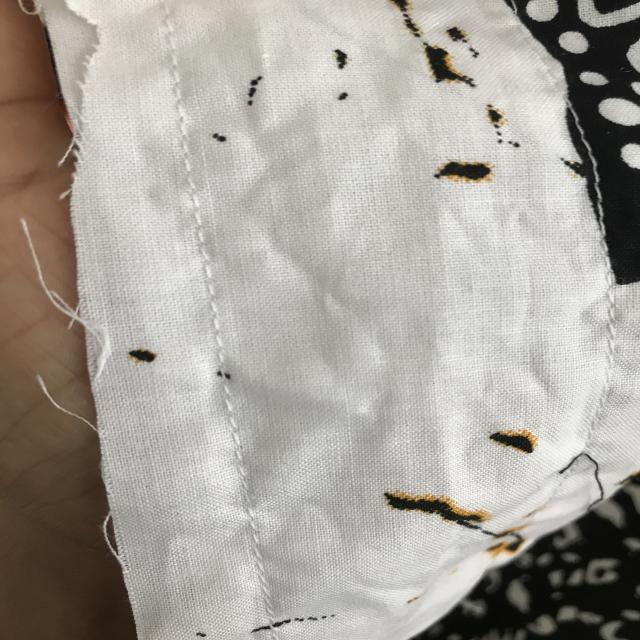good: (178, 218, 236, 332)
